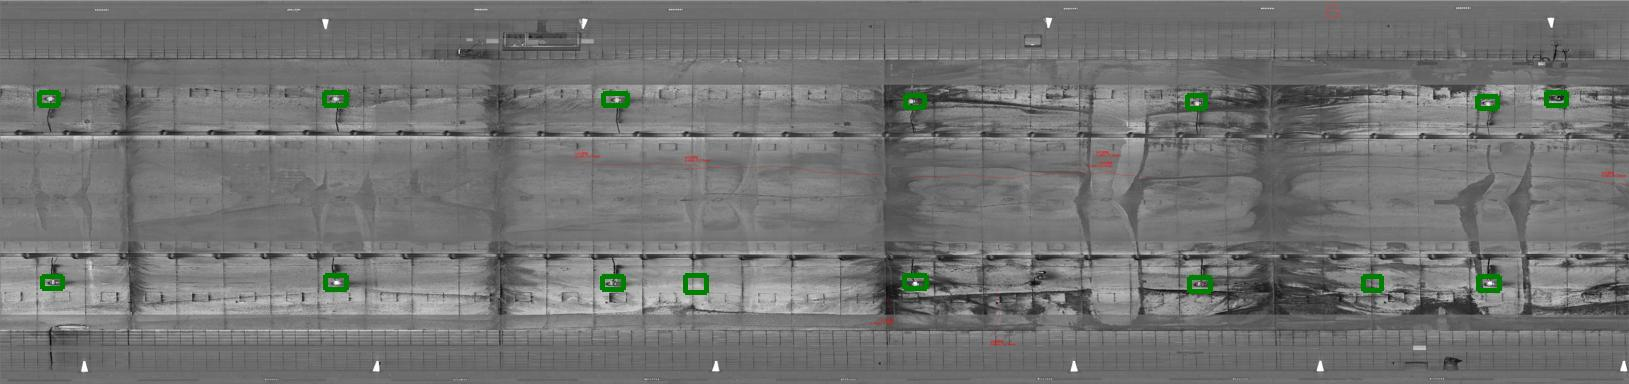light: (325, 274, 347, 292), (600, 276, 626, 289), (38, 90, 60, 105), (1186, 94, 1207, 108), (1477, 97, 1498, 110), (327, 90, 345, 106), (43, 276, 64, 289), (1192, 276, 1210, 291), (607, 92, 626, 106), (904, 277, 924, 291), (902, 93, 920, 106), (1480, 278, 1497, 289)
